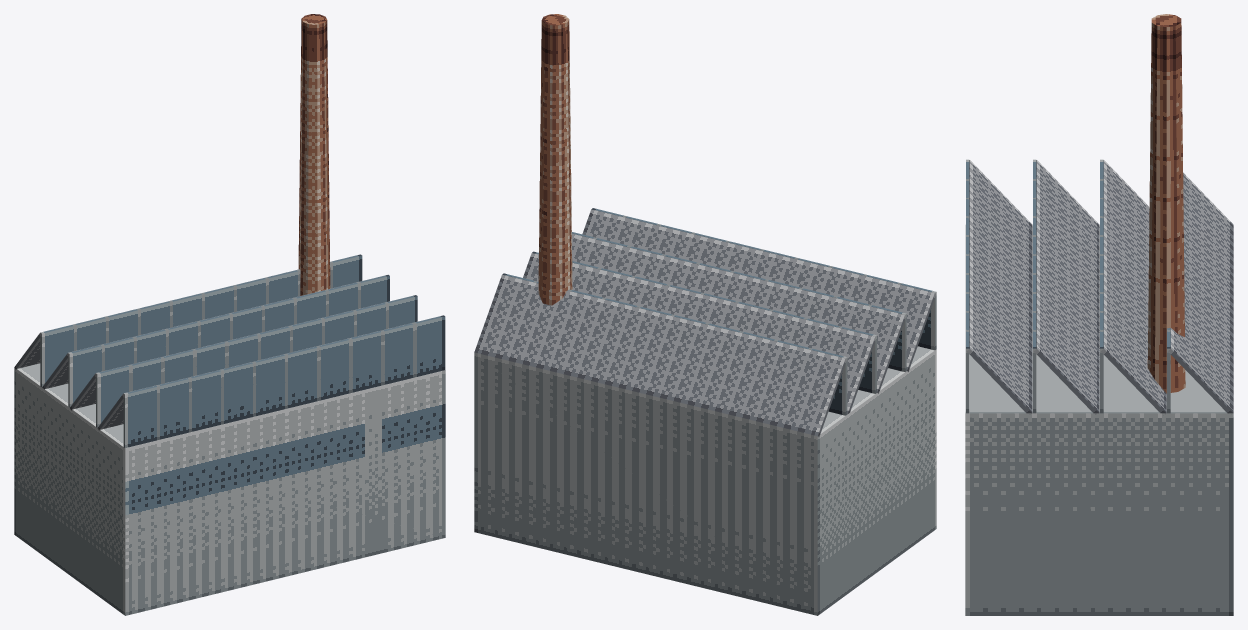
File: sky_works.glb
3 views of the same model, side by side, from view 1: azimuth 30°, elevation 25°; view 2: azimuth 150°, elevation 25°; view 3: azimuth 270°, elevation 25° (orthographic). The views are drawn at different scales.
Visible parts, largest first — view 1: sky_works; view 2: sky_works; view 3: sky_works.
Boxes of the visible parts, left/top/right/bottom form: sky_works: left=14, top=14, right=445, bottom=615; sky_works: left=474, top=14, right=936, bottom=615; sky_works: left=965, top=14, right=1233, bottom=615.
Size of the model in its own units: 10 by 14 by 6.
1 material, 1 textured.
